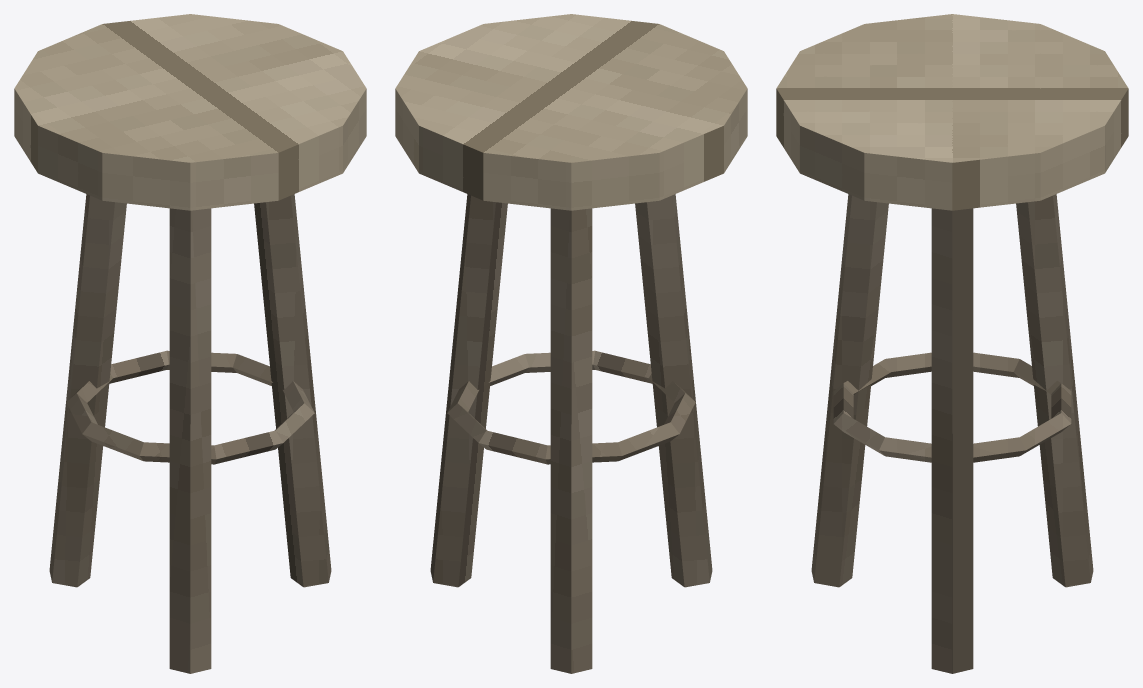
File: stool.glb
3 views of the same model, side by side, from view 1: azimuth 30°, elevation 25°; view 2: azimuth 150°, elevation 25°; view 3: azimuth 270°, elevation 25° (orthographic).
Visible parts, largest first — view 1: body; view 2: body; view 3: body.
Boxes of the visible parts, <box> form: body: <box>14,14,366,673</box>; body: <box>395,14,747,673</box>; body: <box>776,14,1128,673</box>.
Bounding box in the file's own units: 0.4 × 0.652 × 0.4.
Materials: 2 (2 with a texture image).
